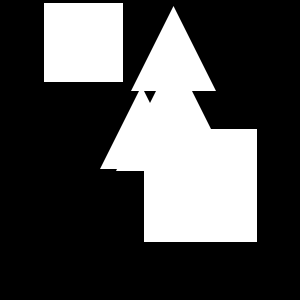circle: (144, 129, 257, 242), (44, 3, 123, 82)
triangle: (116, 55, 232, 171), (131, 6, 216, 91), (100, 86, 183, 169)
